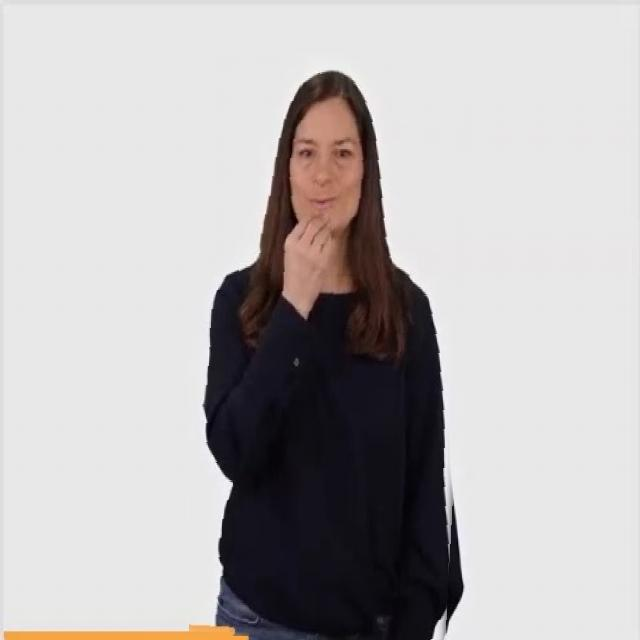Food: (195, 56, 467, 640)
